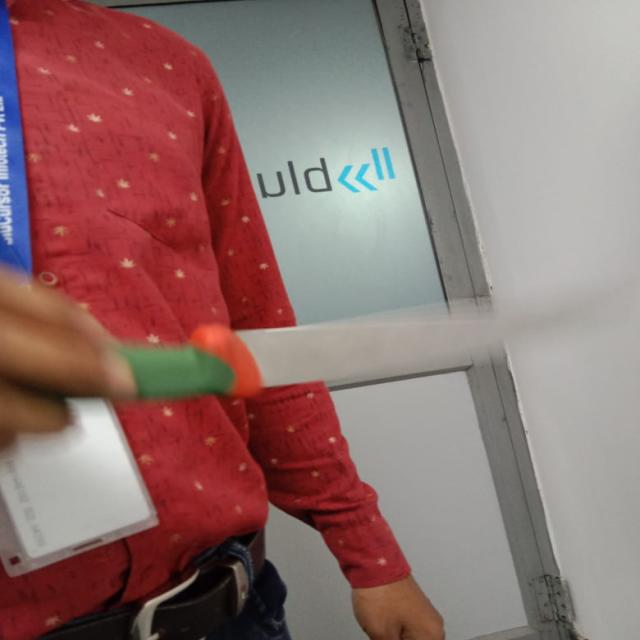Knife: (118, 308, 539, 400)
